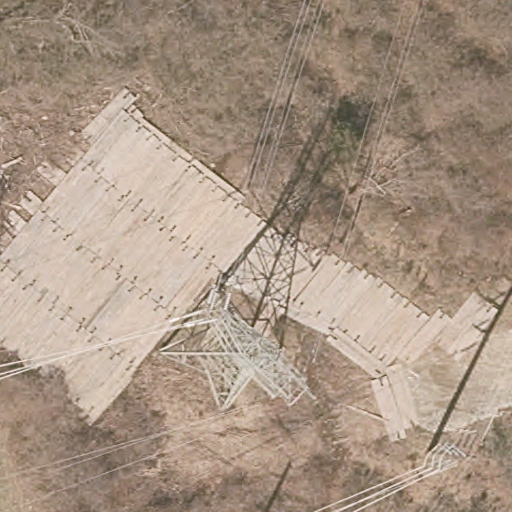TT: (155, 271, 318, 412)
